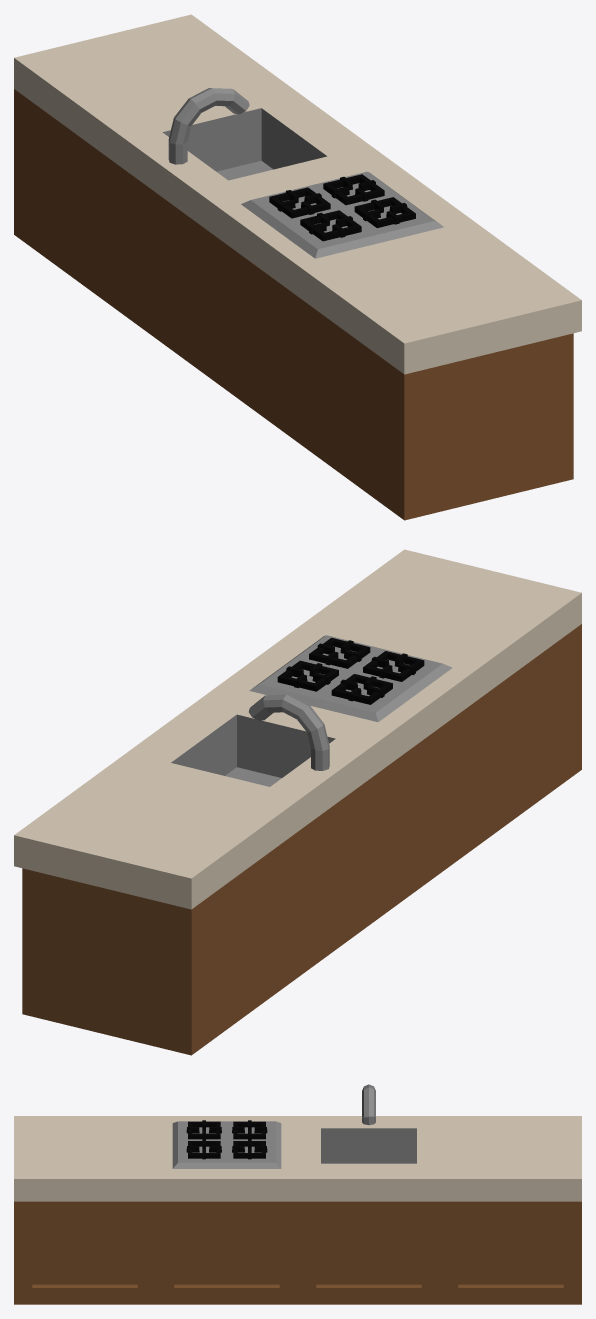
File: kitchen.fbx
The picture shows the model from 3 angles, top to bottom: view 1: azimuth 30°, elevation 25°; view 2: azimuth 150°, elevation 25°; view 3: azimuth 270°, elevation 25°; orthographic projection. The views are drawn at different scales.
Visible parts, largest first — view 1: kitchen; view 2: kitchen; view 3: kitchen.
Boxes of the visible parts, x1,y1,x2,y2 form: kitchen: (14,14,581,520); kitchen: (14,549,581,1055); kitchen: (14,1084,581,1304).
Bounding box in the file's own units: 105 × 136 × 400.
1 material, 1 textured.
